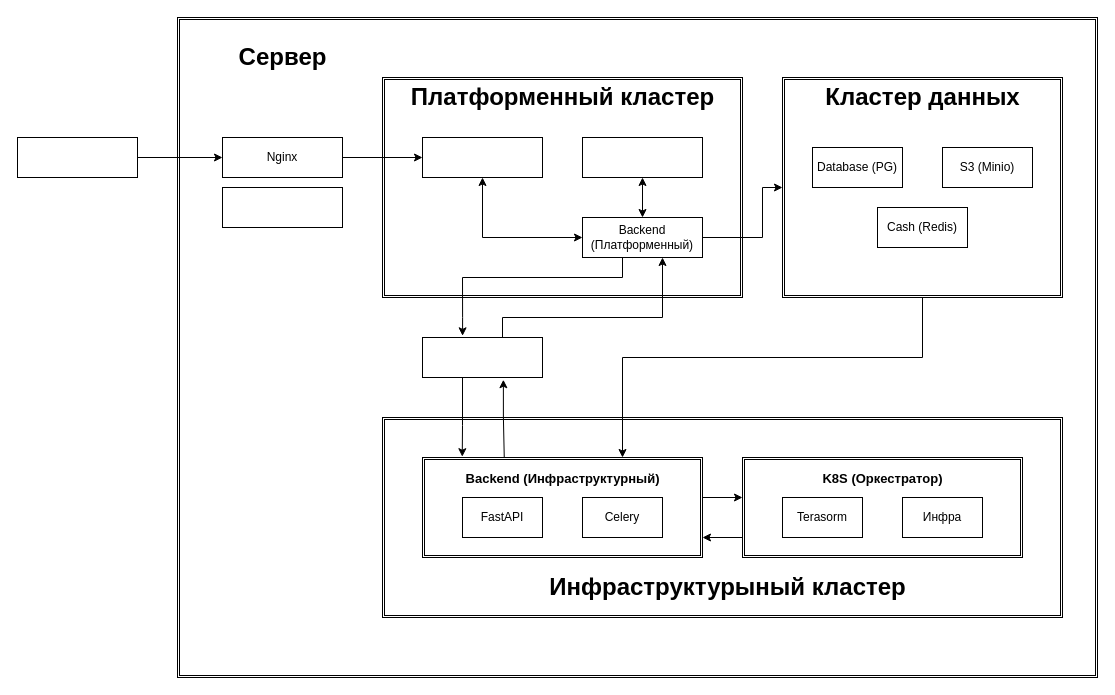
The diagram is 1115 pixels wide and 695 high, and some of its shapes have lost their labels. The centre of each missing label's shape, as x and y in pixels:
"Citadel (Сервис Авторизации)" goes at point 642,157.
"Envoy" goes at point 282,207.
"FrontEnd" goes at point 482,157.
"RabbitMQ" goes at point 482,357.
"Пользователь" goes at point 77,157.
